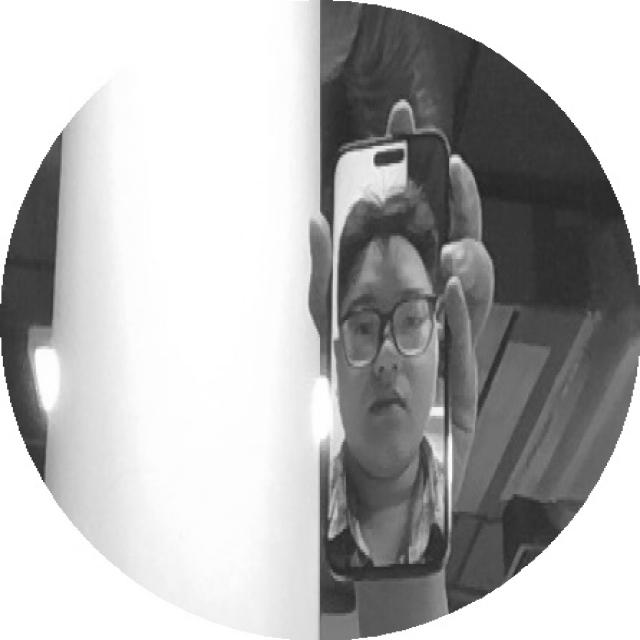fake: (301, 120, 476, 587), (318, 121, 459, 584)
